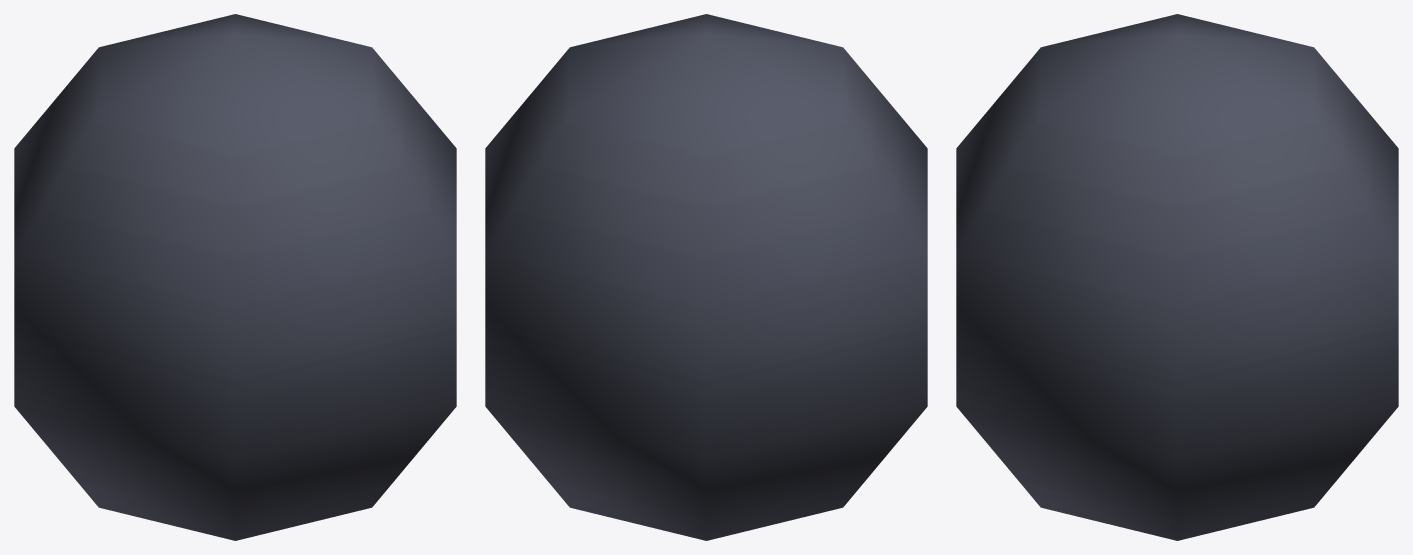
File: cannon_ball.fbx
The picture shows the model from 3 angles, left to right: view 1: azimuth 30°, elevation 25°; view 2: azimuth 150°, elevation 25°; view 3: azimuth 270°, elevation 25°; orthographic projection.
Visible parts, largest first — view 1: cannon-ball; view 2: cannon-ball; view 3: cannon-ball.
Boxes of the visible parts, bbox=[...] form: cannon-ball: bbox=[14, 14, 456, 540]; cannon-ball: bbox=[485, 14, 927, 540]; cannon-ball: bbox=[956, 14, 1398, 540].
Size of the model in its own units: 0.6372 by 0.67 by 0.5518.
1 material, 1 textured.
